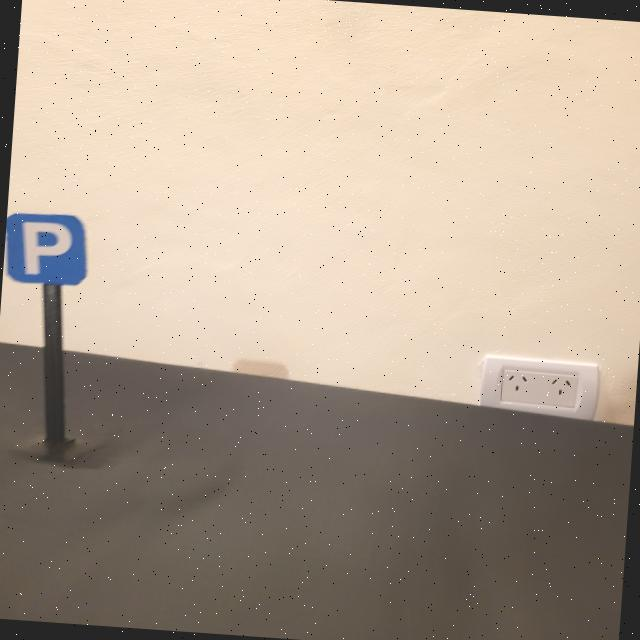parking: (2, 210, 91, 286)
